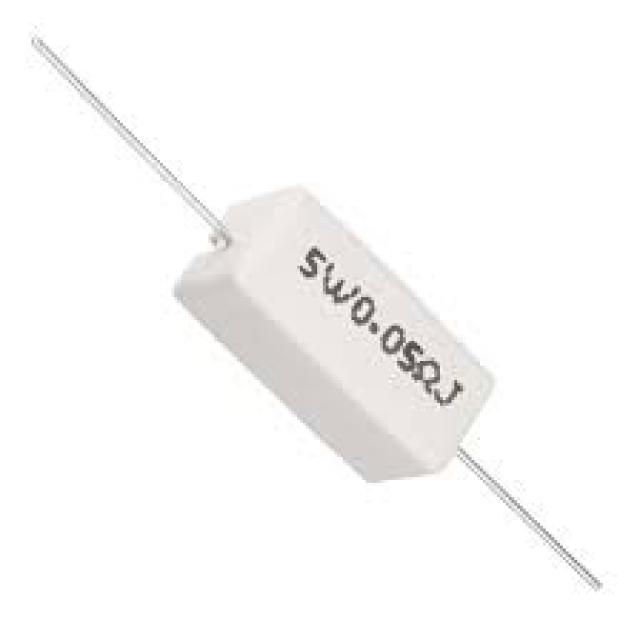Resistor: (177, 186, 491, 483)
